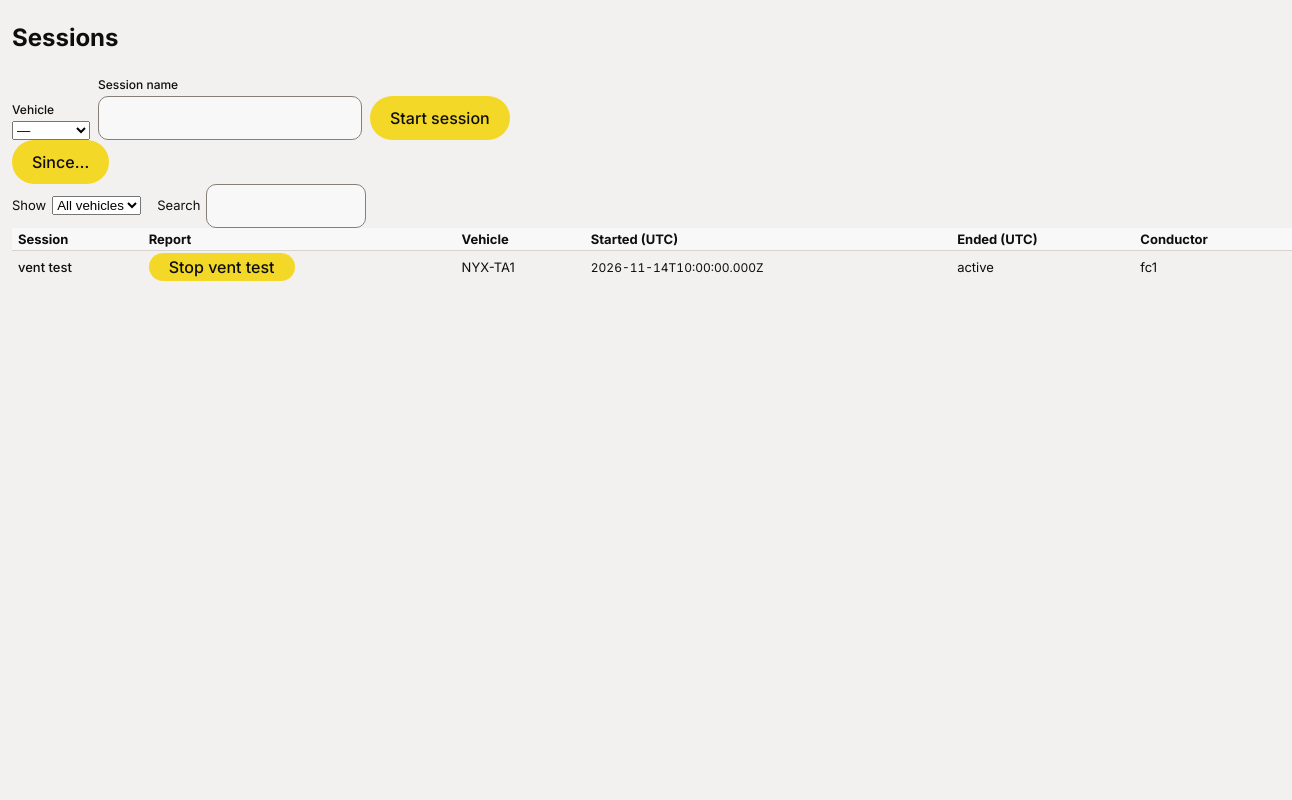
Scenario: stop shows the pending report text; once frozen the report table and the CSV link appear
Click the button "Stop vent test" at (222, 267), box [149,253,294,281]
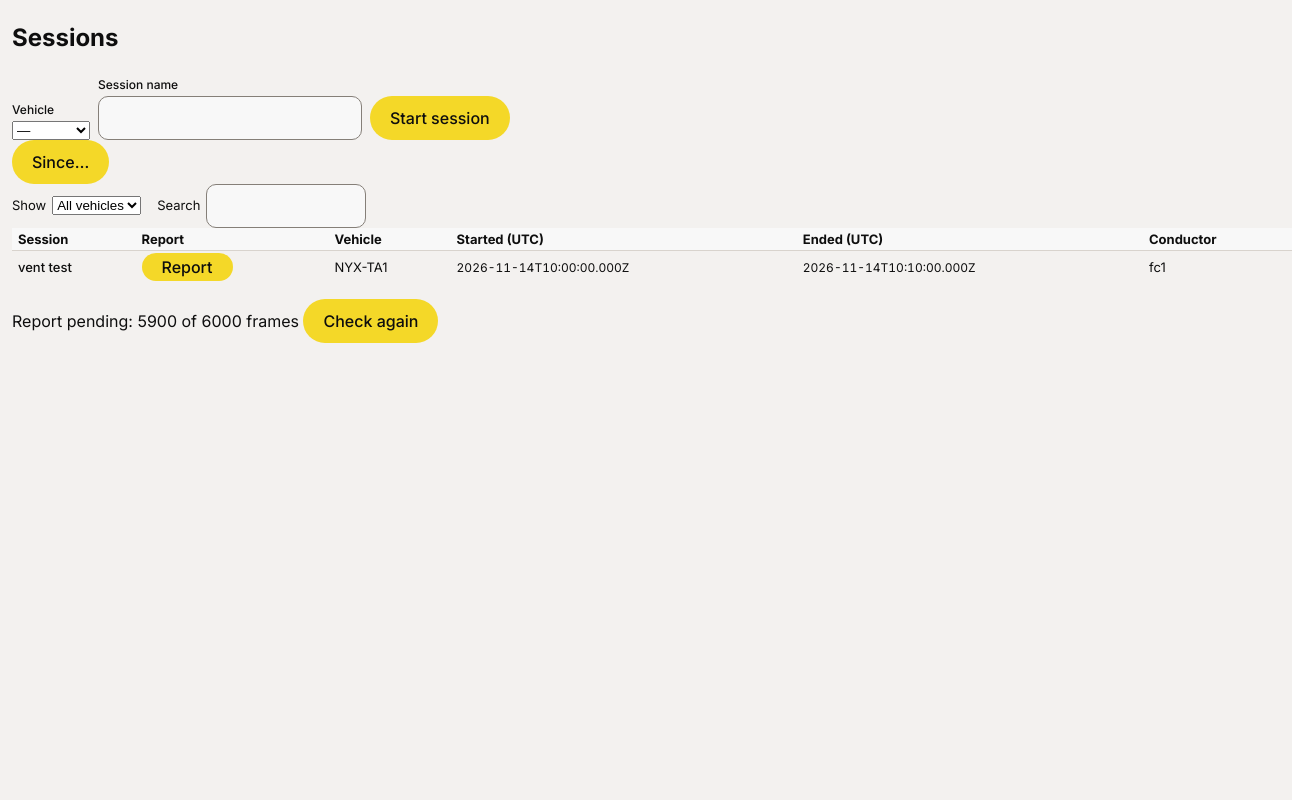
Check: the message "Report pending: 5900 of 6000 frames Check again" is shown, box [12,299,438,343]
Click the button "Check again" at (371, 321), box [304,299,438,343]
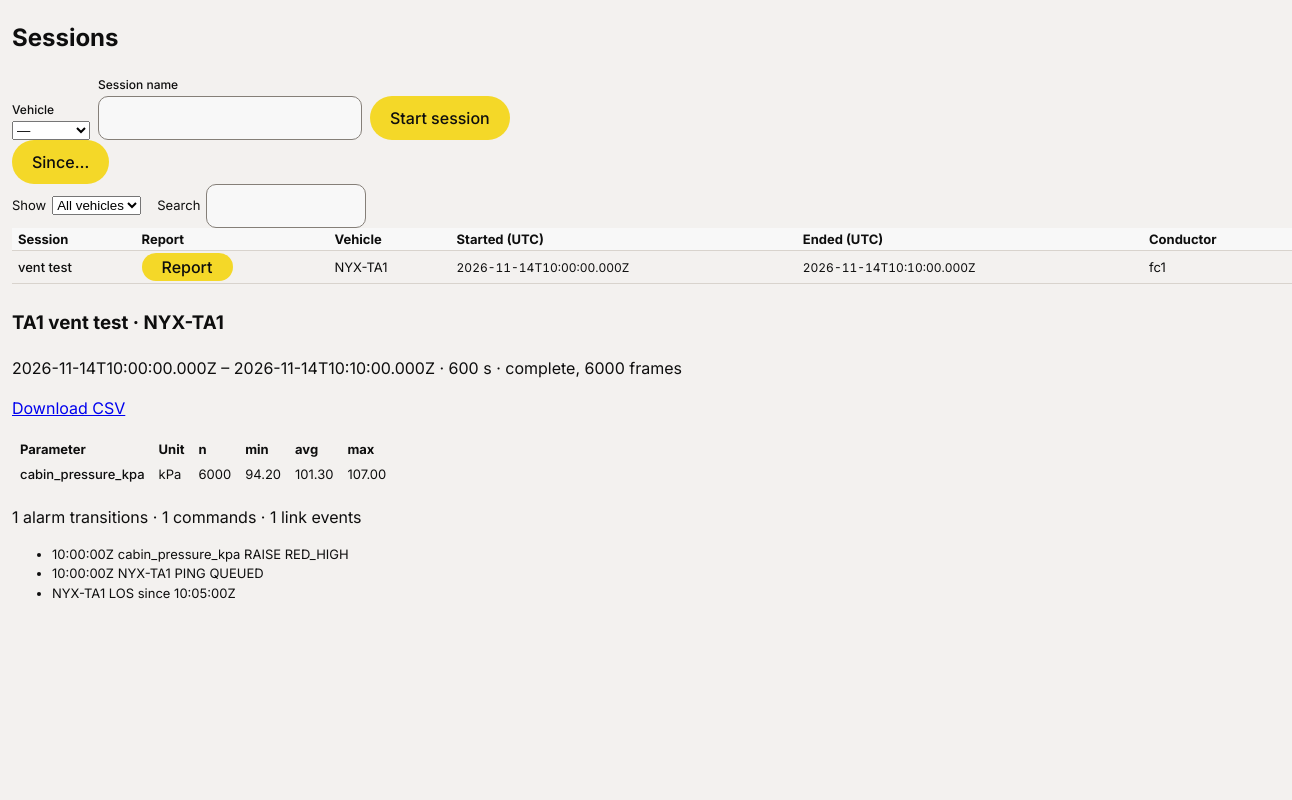
Check: the element with class "report" shows "complete, 6000 frames", box [505,358,682,378]
Check: the element with class "report" shows "cabin_pressure_kpa", box [20,466,145,482]
Check: the element with class "report" shows "94.20", box [245,466,281,482]
